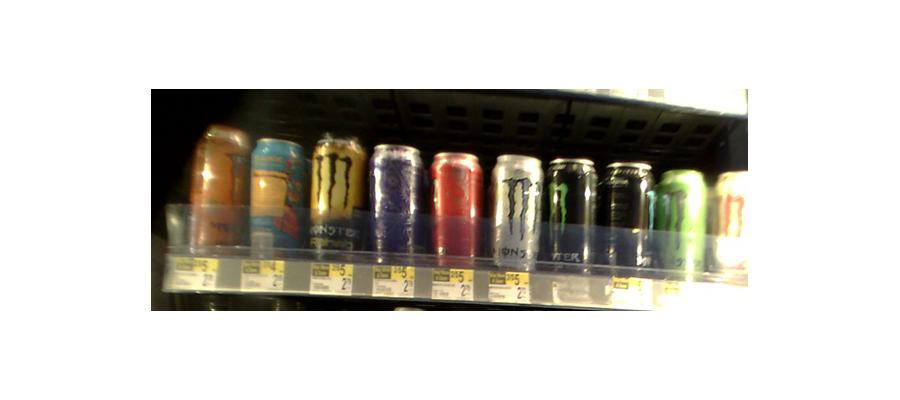bottle: (187, 121, 244, 255), (307, 134, 363, 262), (544, 152, 599, 278), (488, 152, 543, 277), (367, 144, 423, 264), (250, 137, 302, 262), (428, 152, 485, 266), (654, 165, 706, 277), (606, 157, 654, 274), (716, 169, 757, 276)
